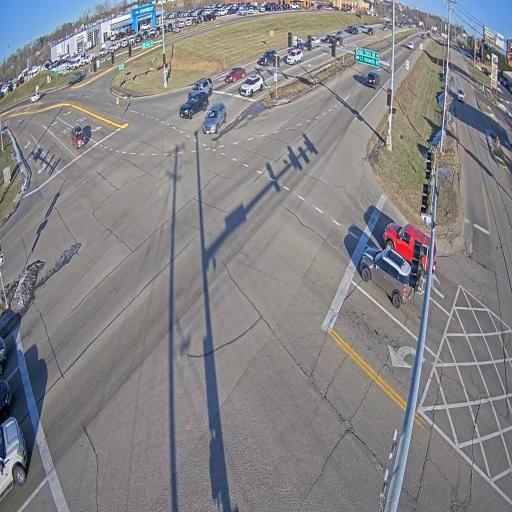pickup: (0, 417, 27, 499), (312, 37, 321, 48)
sedan: (202, 102, 226, 133), (225, 67, 246, 82), (457, 88, 465, 102), (31, 92, 41, 102), (323, 35, 335, 43), (347, 26, 358, 33), (386, 22, 390, 26), (382, 26, 387, 29)
suv: (360, 247, 413, 308), (383, 223, 430, 280), (384, 223, 430, 277), (180, 90, 209, 119), (240, 74, 264, 97), (189, 78, 213, 96), (71, 126, 88, 148), (258, 49, 277, 64), (366, 71, 380, 89), (336, 35, 343, 45), (366, 28, 374, 35), (408, 42, 414, 49), (421, 34, 424, 39), (427, 32, 430, 36), (399, 23, 403, 26)
van: (284, 47, 303, 64)
